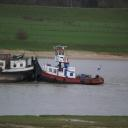tugboat: (32, 46, 107, 89)
